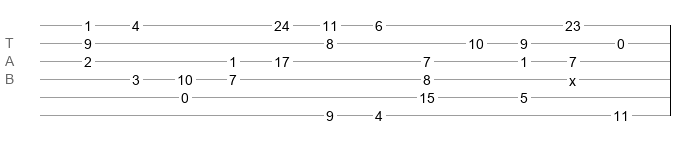0: (181, 90, 189, 100), (617, 36, 625, 46)
1: (84, 18, 92, 28), (229, 54, 237, 64), (520, 54, 528, 64)
10: (177, 72, 193, 82), (468, 36, 484, 46)
11: (322, 18, 338, 28), (613, 108, 629, 118)
15: (419, 90, 435, 100)
17: (274, 54, 290, 64)
2: (84, 54, 92, 64)
23: (565, 18, 581, 28)
24: (274, 18, 290, 28)
3: (132, 72, 140, 82)
4: (132, 18, 140, 28), (375, 108, 383, 118)
5: (520, 90, 528, 100)
6: (375, 18, 383, 28)
7: (229, 72, 237, 82), (423, 54, 431, 64), (569, 54, 577, 64)
8: (326, 36, 334, 46), (423, 72, 431, 82)
9: (84, 36, 92, 46), (326, 108, 334, 118), (520, 36, 528, 46)
x: (569, 73, 576, 81)
